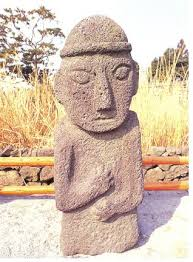Stone Statue: (39, 11, 149, 262)
